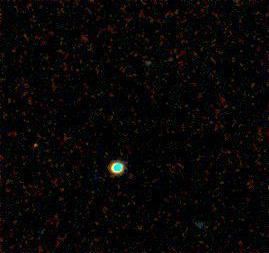star: (20, 130, 50, 160)
